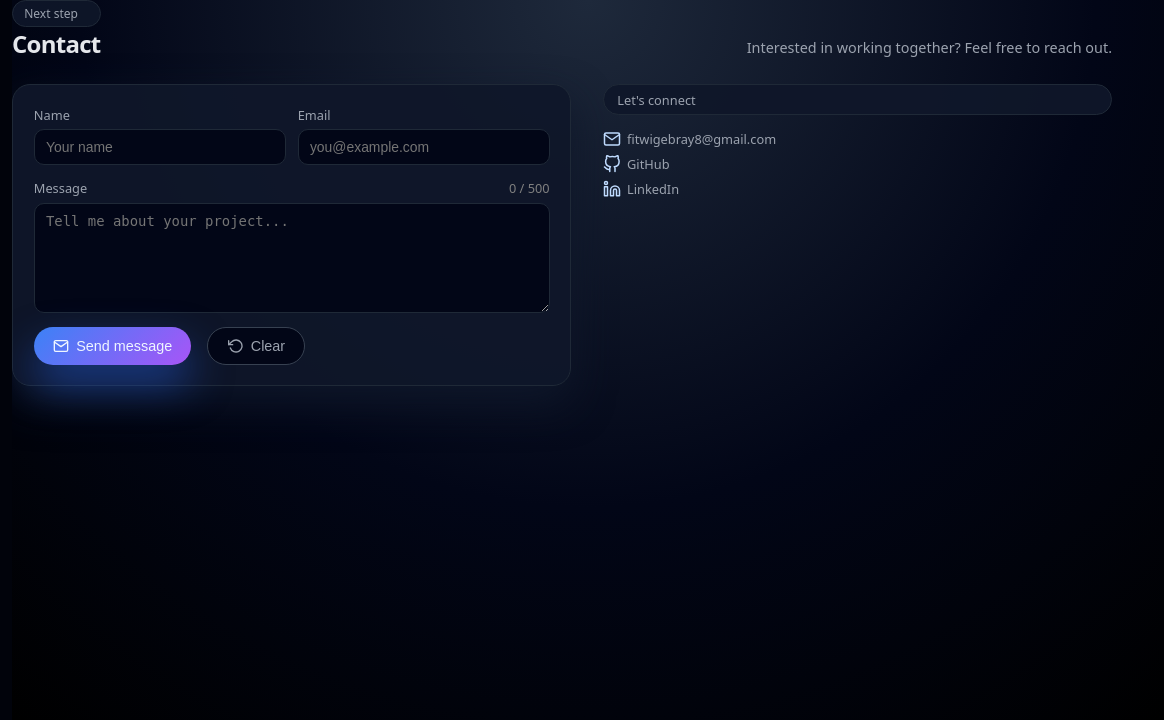
Scenario: Contact Component › clears character counter when 'Clear' button is clicked
In the text box with placeholder "Tell me about your project...": (292, 258) [34,203,550,313], type "Some text"
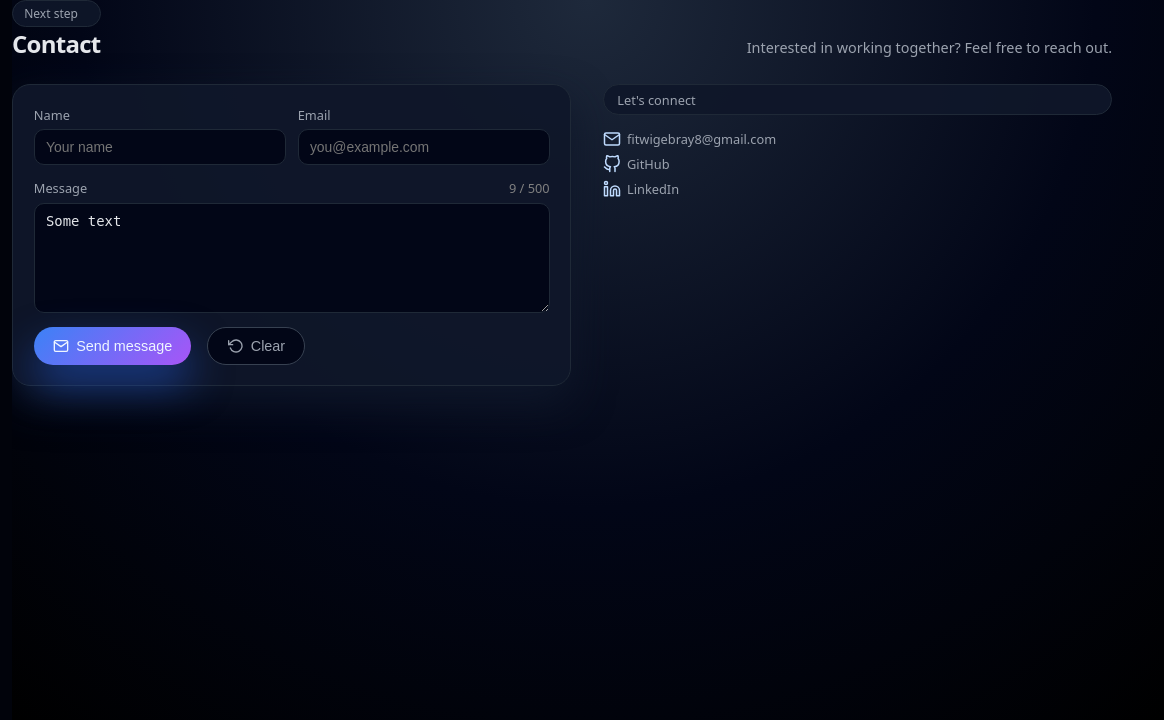
Result: the text "9 / 500" is shown at [509,179,550,197]
Click the button "Clear": (256, 346) [207,327,305,365]
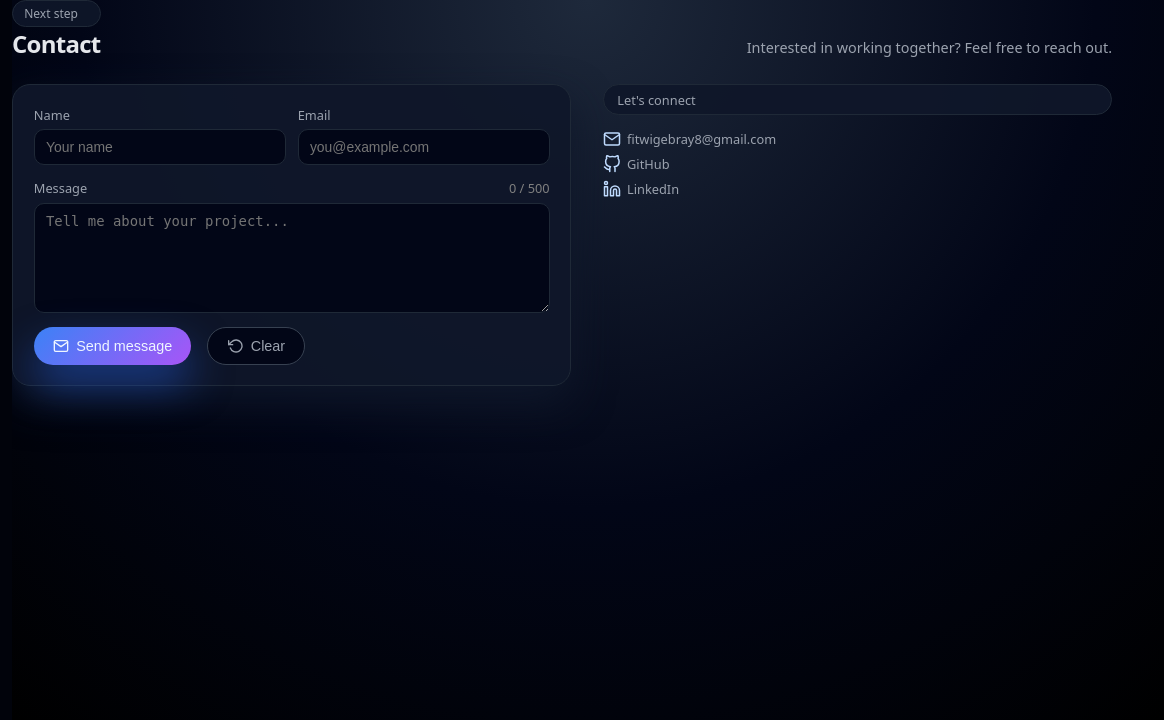
Result: the text "0 / 500" is shown at [509,179,550,197]
